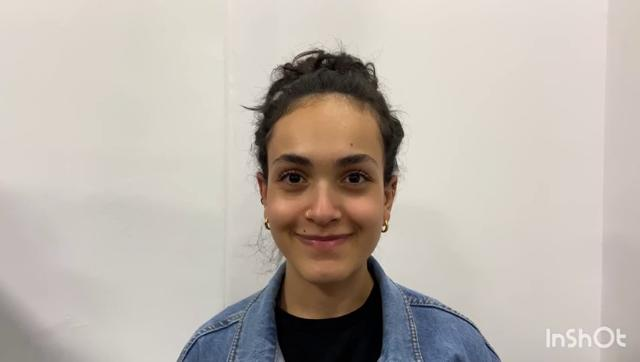senang: (262, 92, 387, 287)
